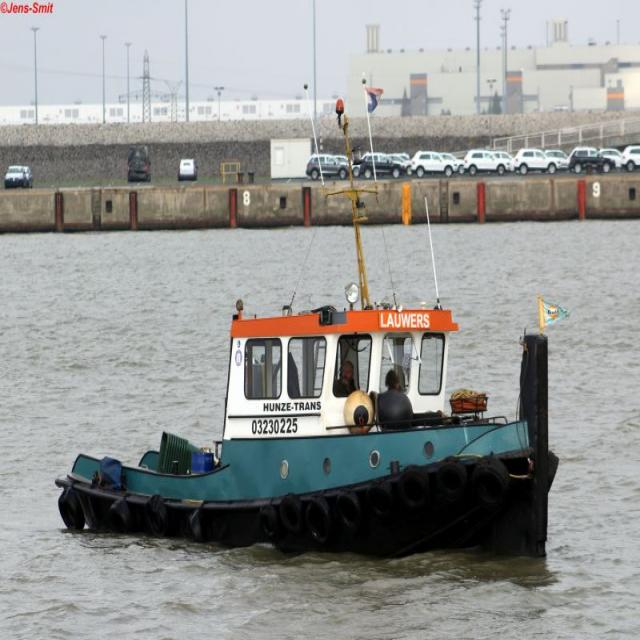tugboat: (53, 282, 563, 567)
